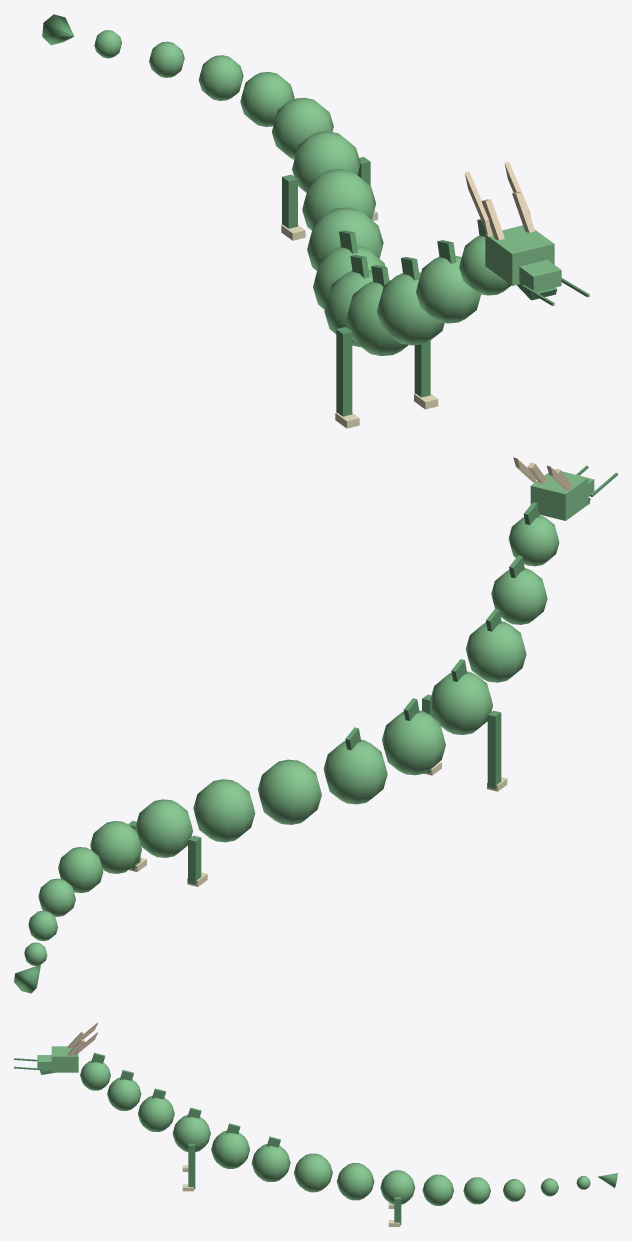
The model's file is troop-eastern-dragon.glb.
3 renders of one model, top to bottom at view 1: azimuth 30°, elevation 25°; view 2: azimuth 150°, elevation 25°; view 3: azimuth 270°, elevation 25°, orthographic. The views are drawn at different scales.
Parts seen in each view (by area): view 1: spine_1, spine_2, spine_6, dragon_head, body, spine_7, spine_3, spine_8, spine_9, spine_0, spine_5, spine_10 (+8 smaller); view 2: body, spine_4, spine_5, spine_6, spine_3, spine_2, spine_7, spine_1, spine_8, dragon_head, spine_0, spine_9 (+3 smaller); view 3: body, spine_4, spine_5, spine_6, spine_3, spine_2, spine_7, spine_1, spine_8, spine_0, dragon_head, spine_9 (+2 smaller).
Part boxes in pixels (x1,y1,x2,y2): spine_1: (416,255,481,323); spine_2: (377,272,444,345); spine_6: (302,169,375,230); dragon_head: (485,225,554,285); body: (307,207,383,270); spine_7: (292,131,360,192); spine_3: (346,280,408,355); spine_8: (272,97,333,159); spine_9: (240,72,294,126); spine_0: (459,235,511,295); spine_5: (313,245,389,309); spine_10: (198,55,243,100); body: (257,759,321,824); spine_4: (382,710,445,775); spine_5: (323,739,387,804); spine_6: (193,779,255,842); spine_3: (430,671,492,734); spine_2: (466,621,526,682); spine_7: (135,799,192,857); spine_1: (491,568,547,624); spine_8: (90,821,141,873); dragon_head: (530,469,588,520); spine_0: (508,515,559,566); spine_9: (58,847,103,892); body: (294,1153,332,1192); spine_4: (211,1130,249,1168); spine_5: (251,1144,290,1181); spine_6: (336,1163,374,1200); spine_3: (172,1115,210,1152); spine_2: (138,1096,174,1131); spine_7: (380,1170,415,1204); spine_1: (107,1077,141,1110); spine_8: (422,1174,453,1205); spine_0: (80,1060,110,1090); dragon_head: (51,1046,78,1072); spine_9: (463,1177,490,1204).
Bounding box in the file's own units: 0.4675 × 0.5821 × 2.06.
